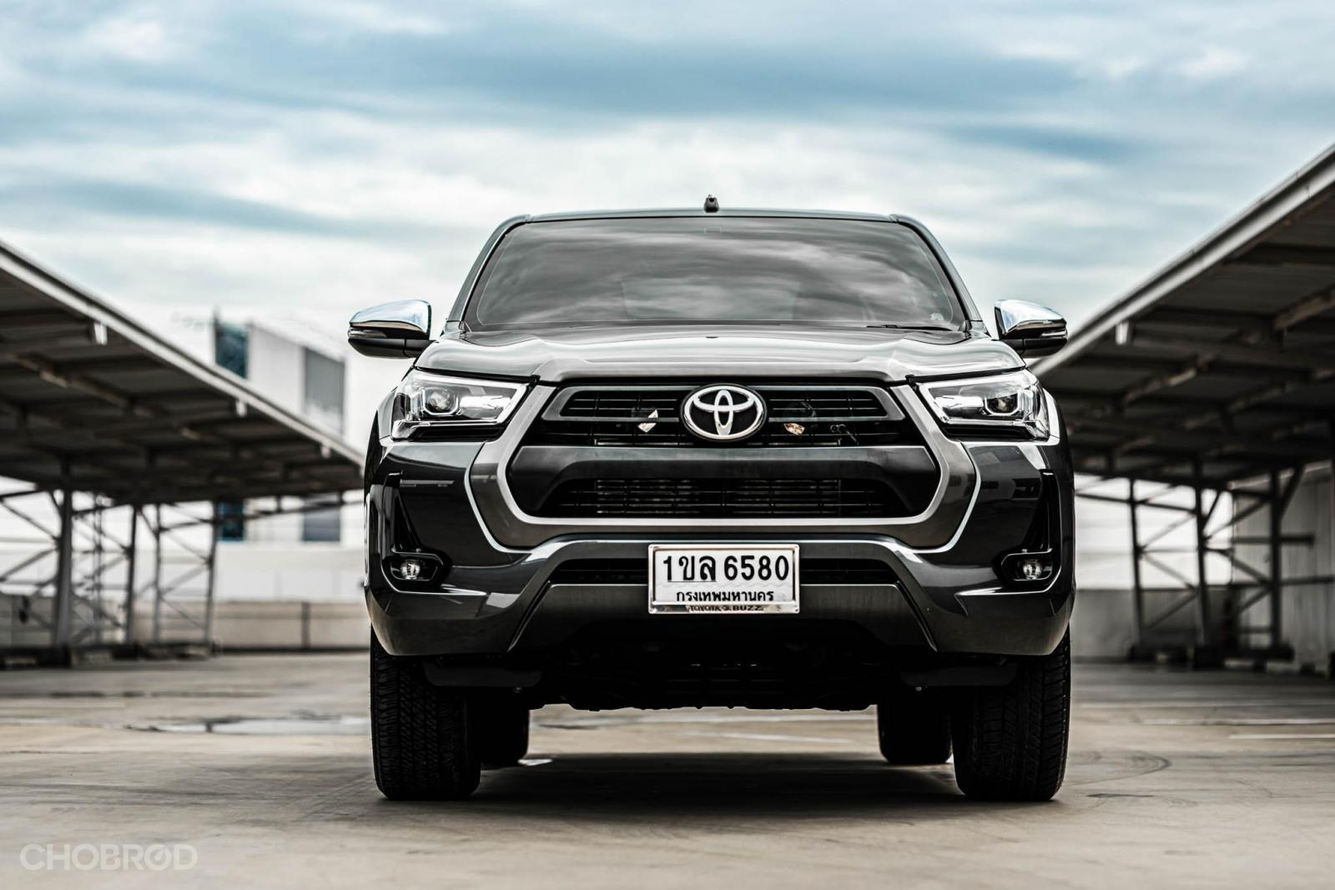license-plate: (641, 529, 808, 628)
